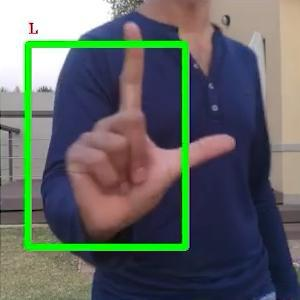land_hand: (43, 13, 239, 246)
